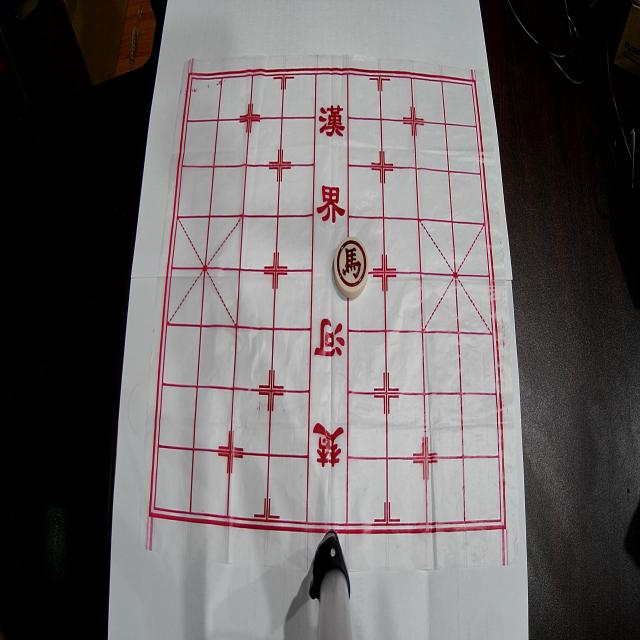red-horse: (334, 237, 369, 298)
